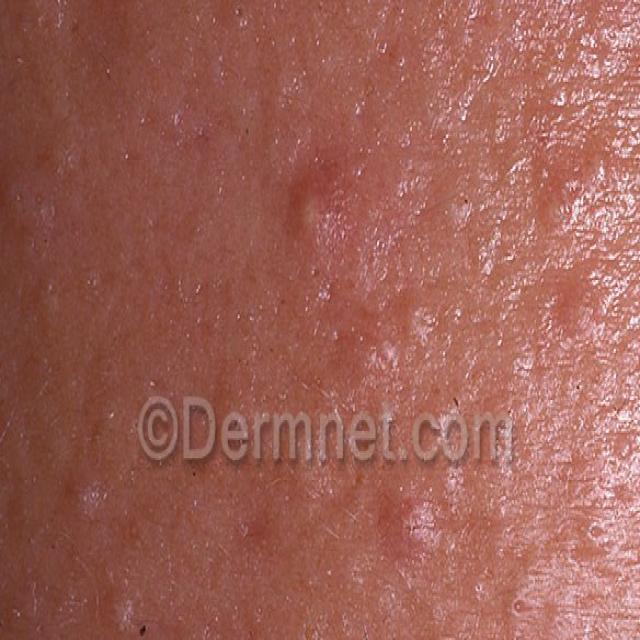Acne: (50, 400, 279, 640), (249, 142, 361, 280)
